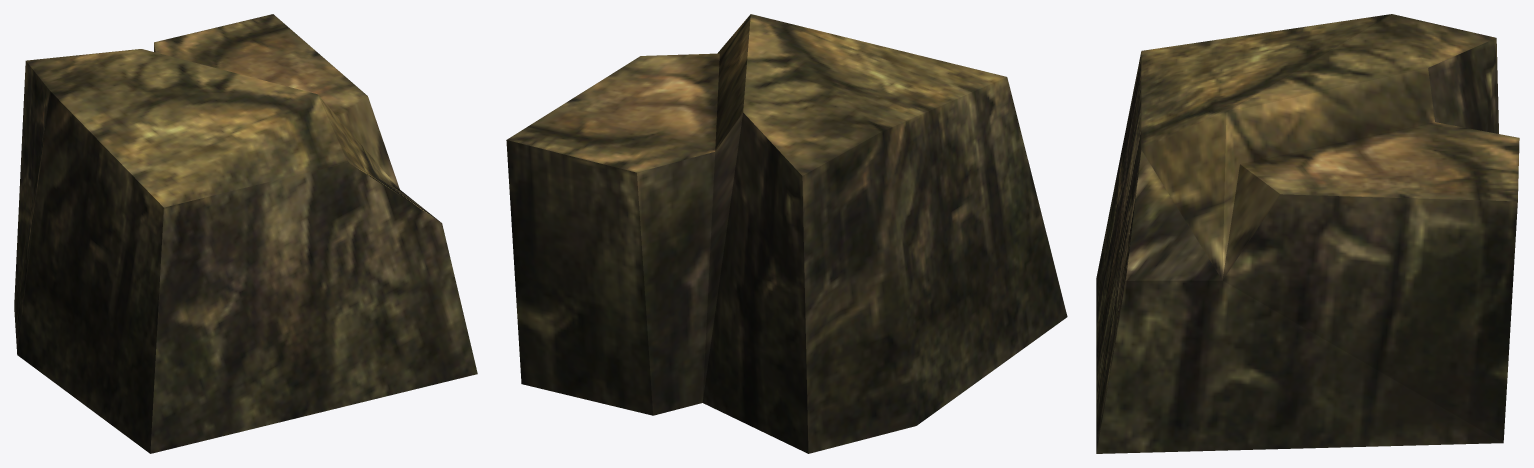
Rendered from ts_yxobj004.FBX.
3 views of the same model, side by side, from view 1: azimuth 30°, elevation 25°; view 2: azimuth 150°, elevation 25°; view 3: azimuth 270°, elevation 25° (orthographic). The views are drawn at different scales.
Visible parts, largest first — view 1: ts_yxobj004; view 2: ts_yxobj004; view 3: ts_yxobj004.
Boxes of the visible parts, x1,y1,x2,y2 form: ts_yxobj004: (14, 14, 477, 453); ts_yxobj004: (506, 14, 1067, 453); ts_yxobj004: (1096, 14, 1519, 453).
Size of the model in its own units: 2.6 by 1.98 by 2.65.
